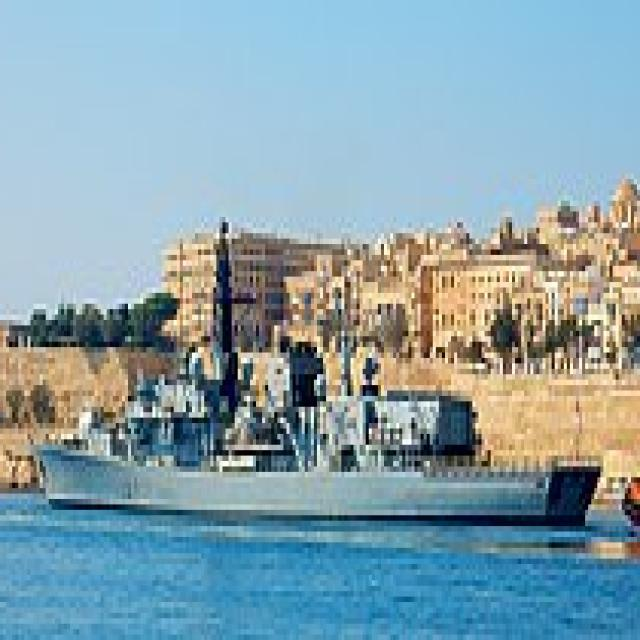Warship: (40, 217, 610, 526)
